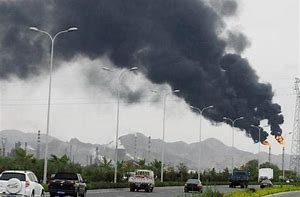smoke: (1, 1, 281, 136)
